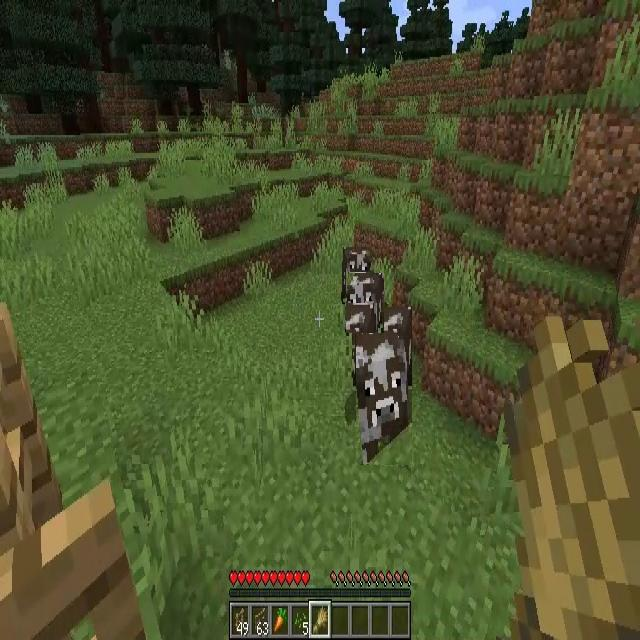cow: (356, 307, 412, 465), (346, 274, 384, 334), (343, 250, 371, 300)
